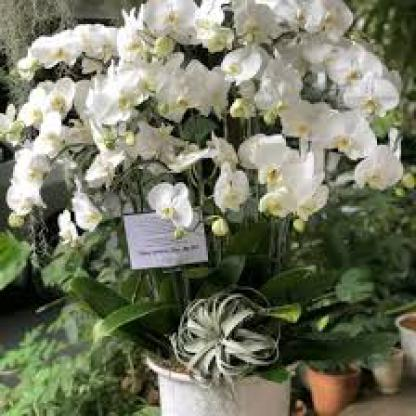ANGGREK: (16, 14, 404, 239)
